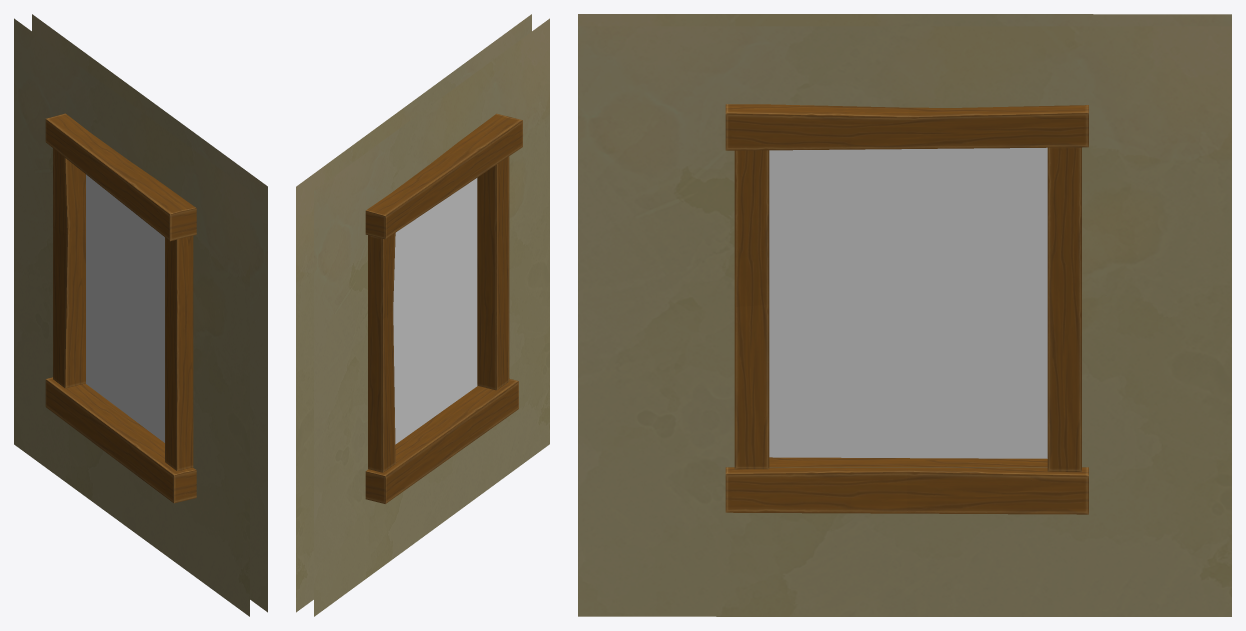
The model's file is SM_House_Roof_01_Middle_Tiling_Window_01.fbx.
3 renders of one model, left to right at view 1: azimuth 30°, elevation 25°; view 2: azimuth 150°, elevation 25°; view 3: azimuth 270°, elevation 25°, orthographic. The views are drawn at different scales.
Visible parts, largest first — view 1: SM_House_Roof_01_Middle_Tiling_Window_01; view 2: SM_House_Roof_01_Middle_Tiling_Window_01; view 3: SM_House_Roof_01_Middle_Tiling_Window_01.
Part boxes in pixels (x1,y1,x2,y2): SM_House_Roof_01_Middle_Tiling_Window_01: [14, 14, 267, 616]; SM_House_Roof_01_Middle_Tiling_Window_01: [296, 14, 549, 616]; SM_House_Roof_01_Middle_Tiling_Window_01: [578, 14, 1231, 616].
Bounding box in the file's own units: 0.324 × 2.26 × 2.27.
